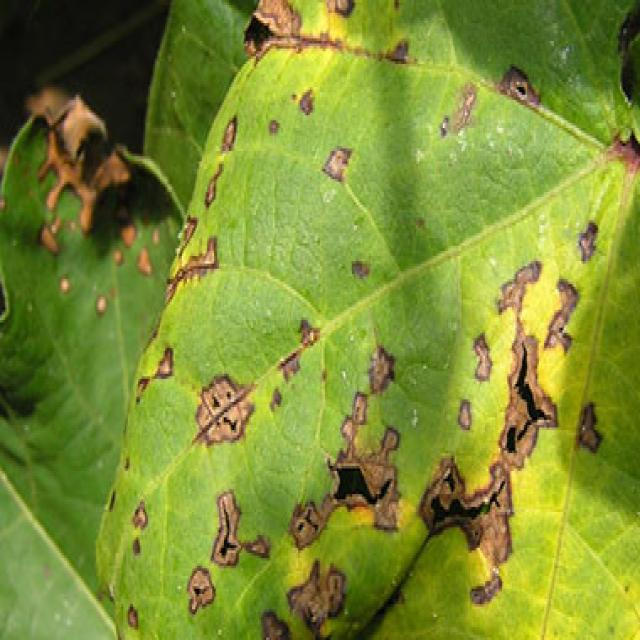Bacterial Blight: (184, 235, 601, 614)
